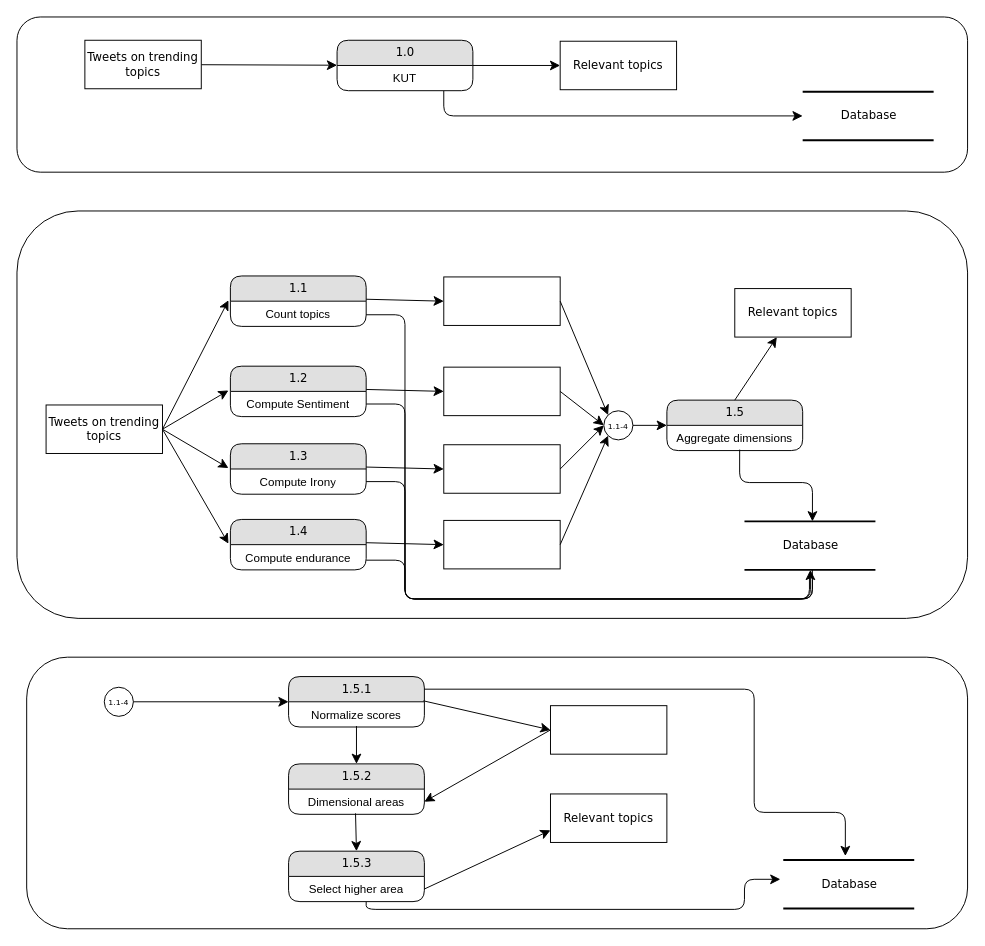
Some shapes in this 985 by 946 pixel diagram are drawn without their labels. Here are the shapes that lost their labels. From the top down, the centre of each, then its label:
At [501,300]: "Topic occurrences".
At [501,391]: "Topic sentiment score".
At [501,468]: "Topic irony score".
At [501,544]: "Topic endurance".
At [608,729]: "Normalized scores".
